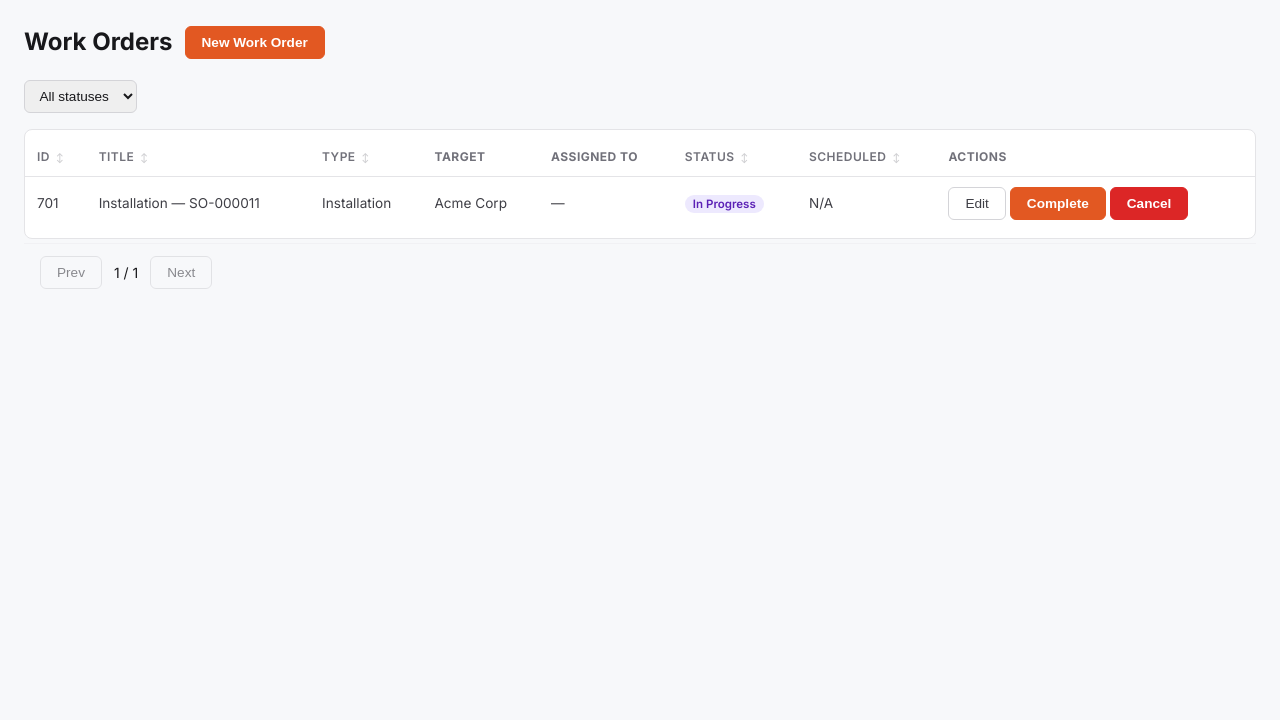
WorkOrders — install acceptance on Complete › requires a reading or a waive before submitting
This screenshot has width=1280, height=720.
expect the text "Installation — SO-000011" is shown: met, box [87, 176, 310, 230]
What coordinates should you click on to do the following:
click the button "Complete"
I would click on:
 (1058, 204)
Its box is [1010, 187, 1106, 220].
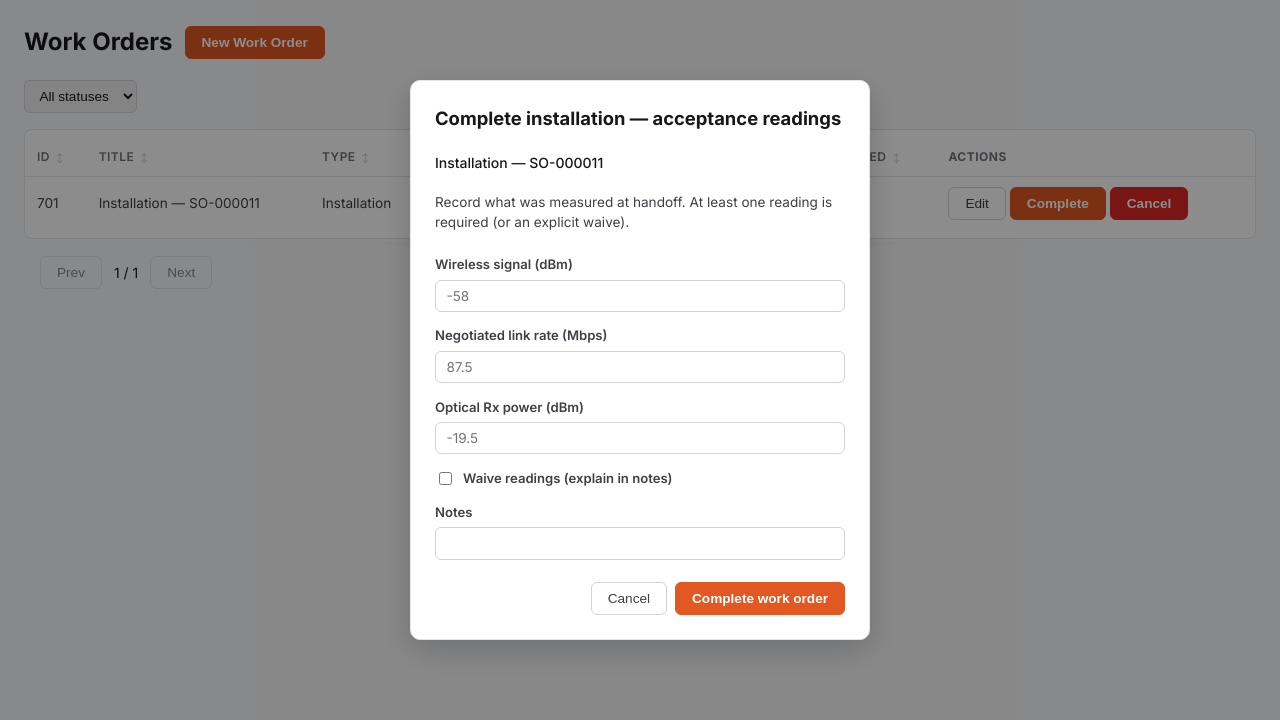
What coordinates should you click on to do the following:
click the button "Complete work order"
I would click on:
 (760, 599)
Its box is [675, 582, 845, 615].
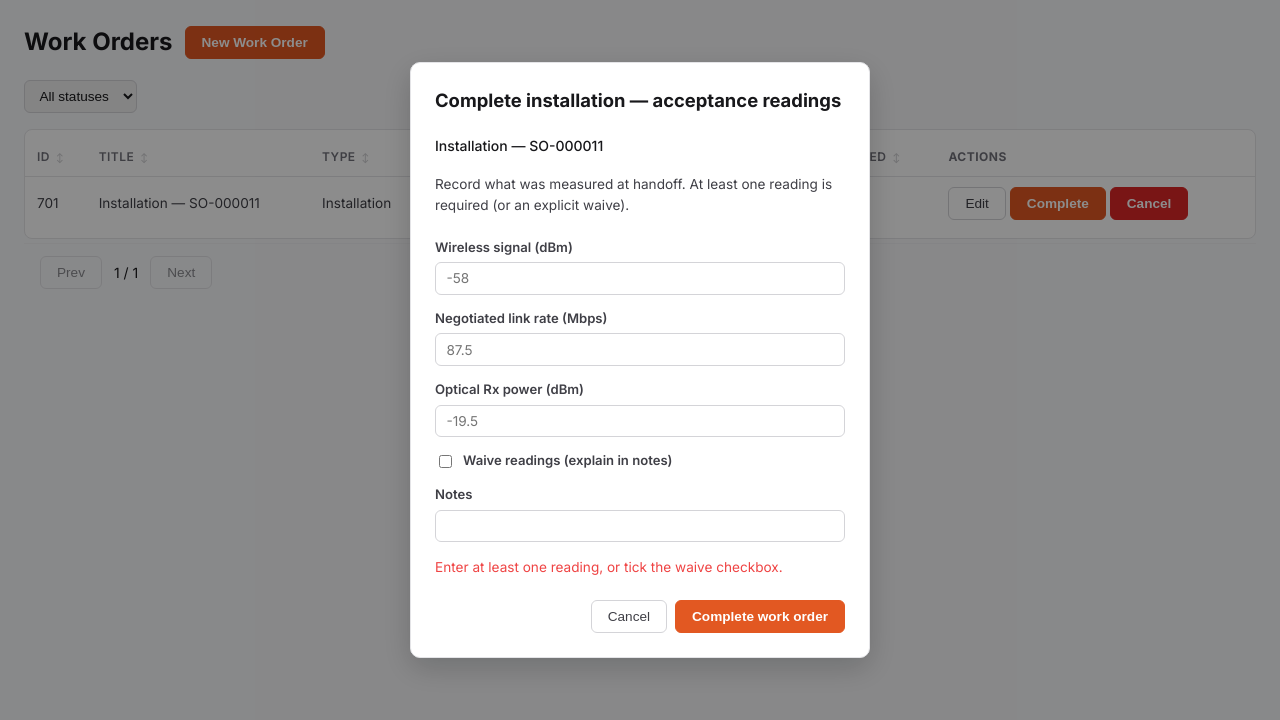
expect the text "Enter at least one reading, or tick the waive checkbox." is shown: met, box [435, 559, 783, 575]
